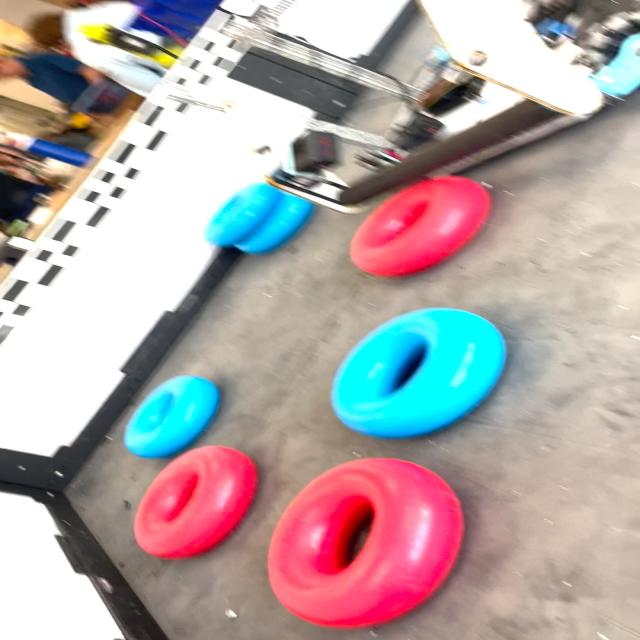Blue-Ring: (331, 308, 507, 439), (124, 375, 220, 458), (204, 182, 282, 246), (236, 192, 313, 254)
Red-Ring: (269, 459, 462, 629), (133, 446, 258, 559), (351, 176, 491, 276)
